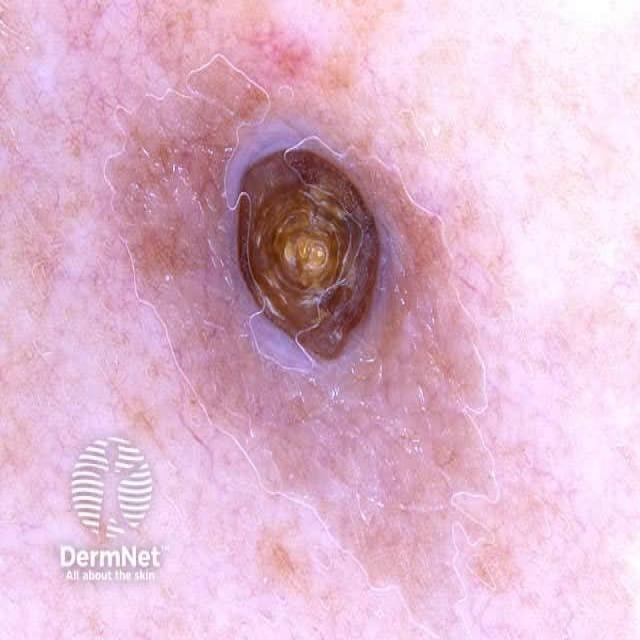blackhead: (238, 152, 379, 360)
